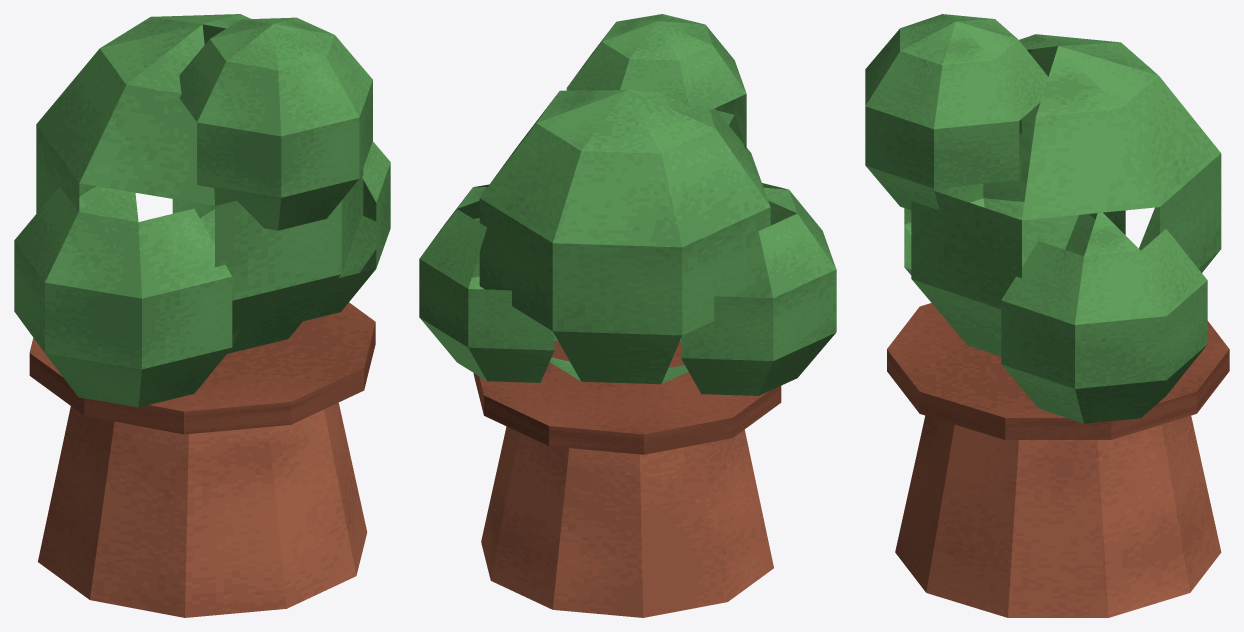
The model's file is prop_plant.glb.
The picture shows the model from 3 angles, left to right: view 1: azimuth 30°, elevation 25°; view 2: azimuth 150°, elevation 25°; view 3: azimuth 270°, elevation 25°; orthographic projection. The views are drawn at different scales.
Visible parts, largest first — view 1: prop_plant; view 2: prop_plant; view 3: prop_plant.
Part boxes in pixels (left/top/right/bottom): prop_plant: left=14, top=14, right=390, bottom=617; prop_plant: left=419, top=14, right=836, bottom=617; prop_plant: left=865, top=14, right=1229, bottom=617.
Size of the model in its own units: 1.08 by 1.46 by 0.8928.
1 material, 1 textured.
